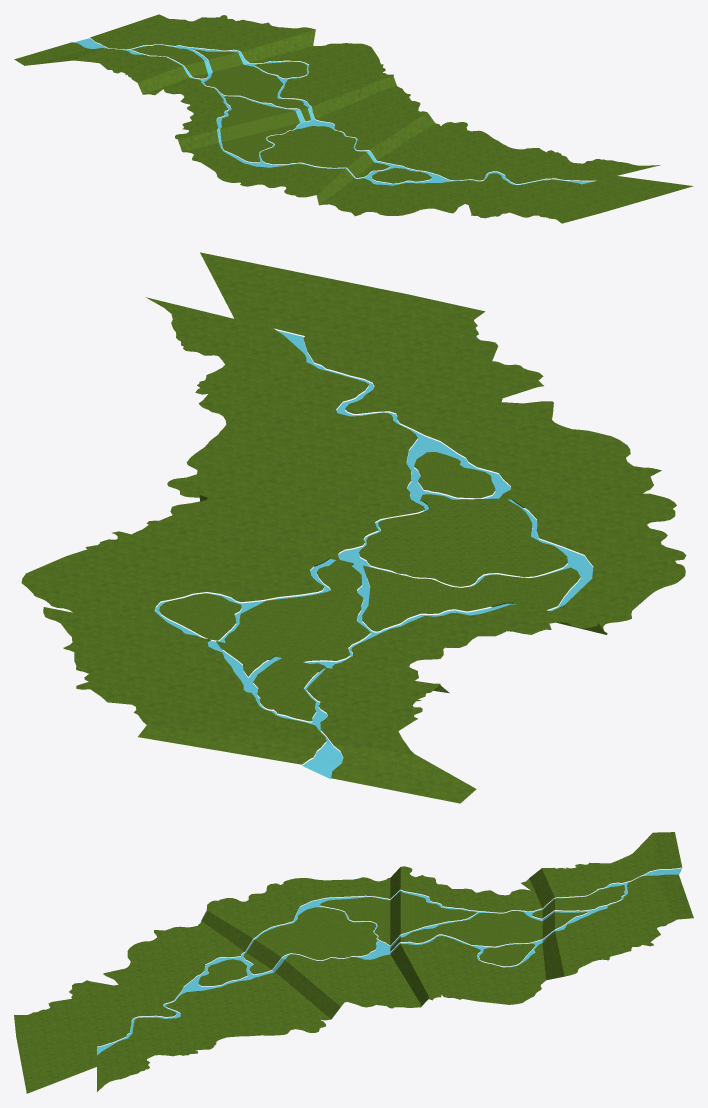
File: Ground.fbx
3 views of the same model, one above another, from view 1: azimuth 30°, elevation 25°; view 2: azimuth 150°, elevation 25°; view 3: azimuth 270°, elevation 25° (orthographic). The views are drawn at different scales.
Parts seen in each view (by area): view 1: polySurface46; view 2: polySurface46; view 3: polySurface46.
Boxes of the visible parts, box(x1,y1,x2,y2) form: polySurface46: box(14, 14, 693, 223); polySurface46: box(21, 252, 686, 803); polySurface46: box(14, 832, 693, 1093).
Bounding box in the file's own units: 27.95 × 1.77 × 34.46.
